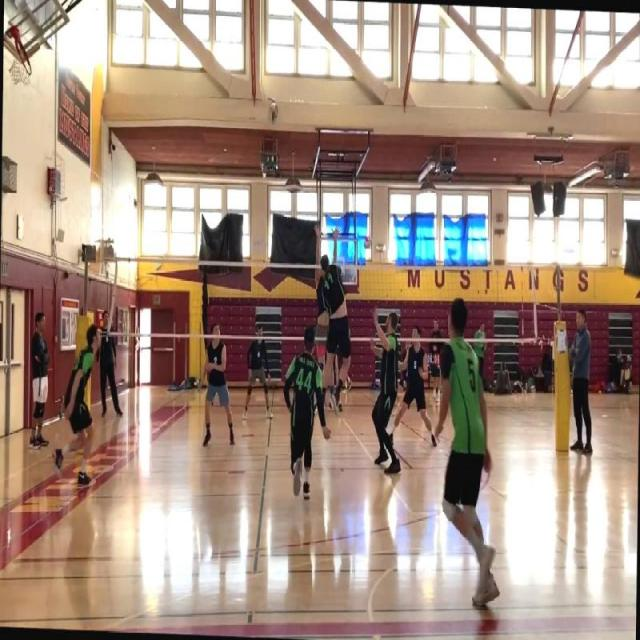volleyball: (363, 237, 372, 250)
